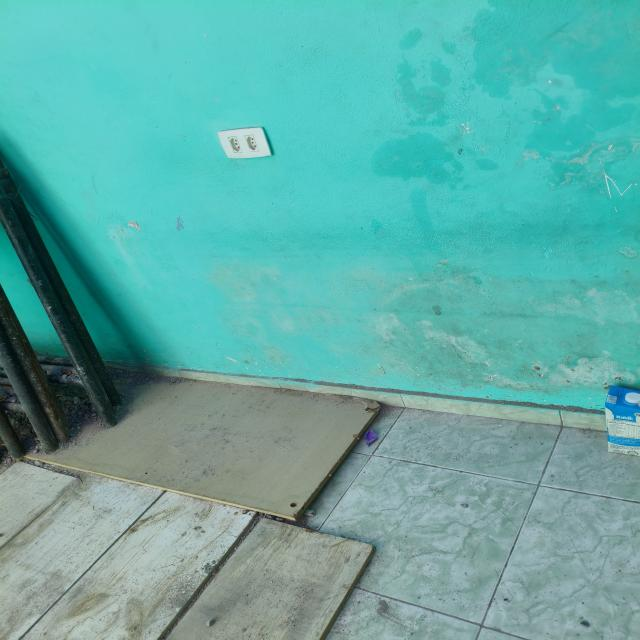Caixa de Leite: (602, 383, 640, 456)
